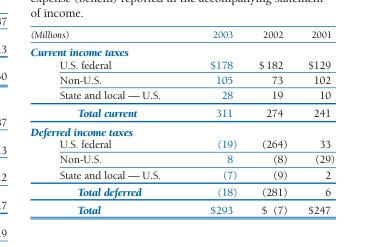table: (29, 28, 334, 215)
table column: (29, 28, 184, 215), (184, 28, 247, 215), (247, 28, 296, 215), (296, 28, 334, 215)
table column header: (29, 28, 334, 42)
table projected row header: (29, 42, 334, 58), (29, 121, 334, 137)
table row: (29, 103, 334, 121), (29, 166, 334, 183), (29, 183, 334, 200), (29, 42, 334, 58), (29, 71, 334, 87), (29, 87, 334, 103), (29, 121, 334, 137), (29, 151, 334, 166), (29, 200, 334, 215), (29, 28, 334, 42), (29, 137, 334, 151), (29, 58, 334, 71)
